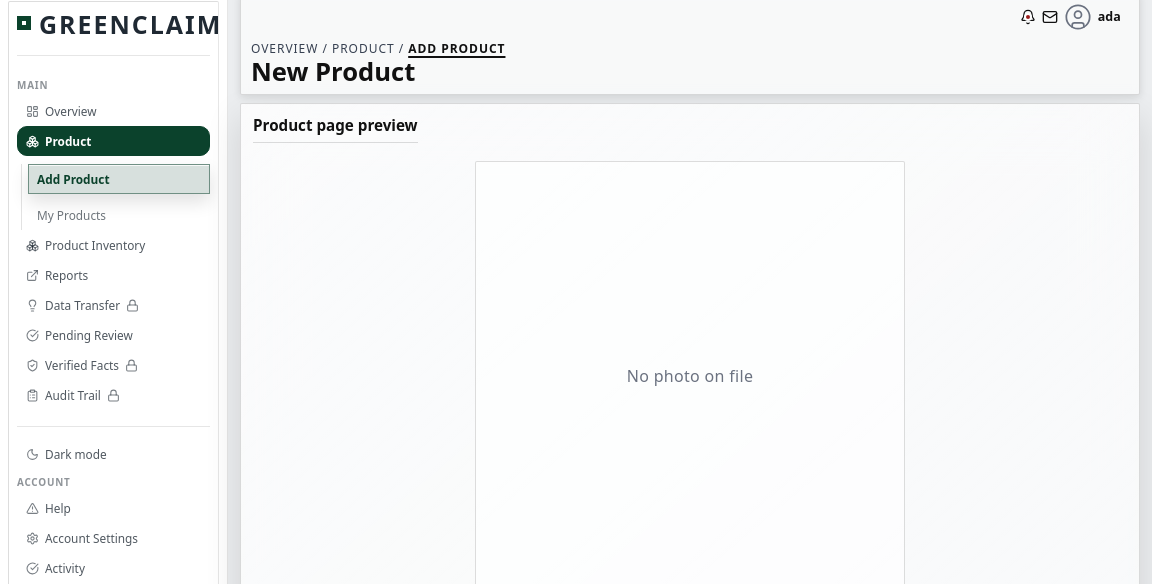
Test: a Copywriter › My Products lists drafts and submissions with their status, and Edit opens the draft
Click the button "My Products" at (119,215), box [28, 200, 210, 230]
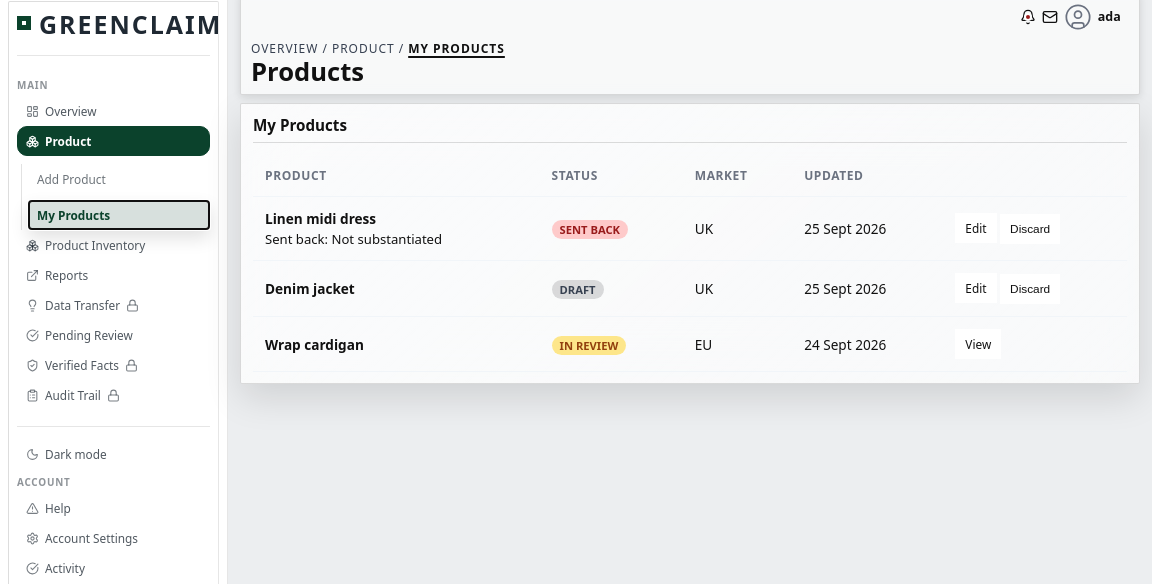
Expected: the text "Draft" is shown, [552, 280, 604, 299]
Expected: the text "In review" is shown, [552, 336, 626, 354]
Expected: the text "Sent back" is shown, [552, 220, 628, 239]
Click the button "Edit" in the row of "Denim jacket" at (976,288), box [955, 273, 997, 303]
(page scrolled)
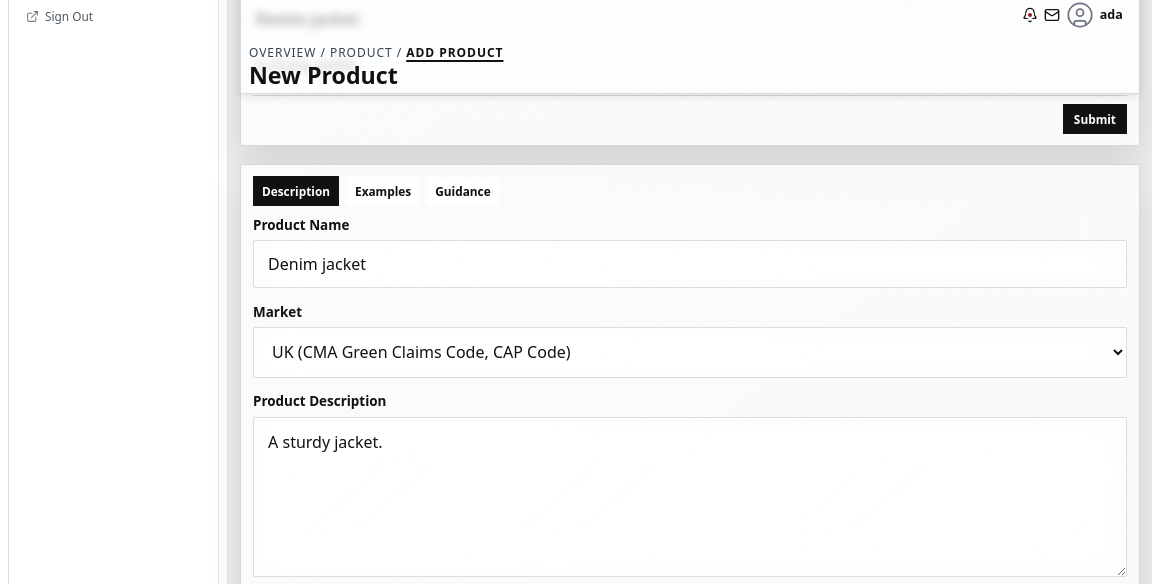
Expected: the text box labelled "Product Description" holds "A sturdy jacket.", [253, 417, 1127, 577]
Expected: the field labelled "Product Name" holds "Denim jacket", [253, 240, 1127, 289]
Expected: the dropdown labelled "Market" shows "UK (CMA Green Claims Code, CAP Code)", [253, 327, 1127, 378]
